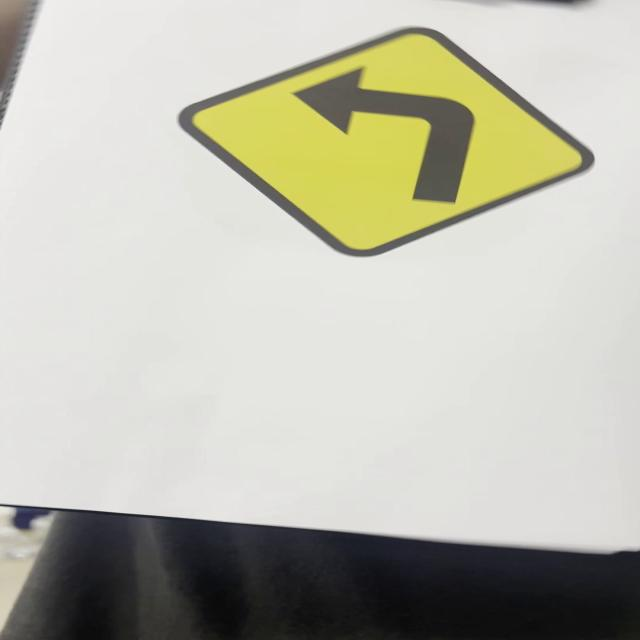left: (178, 26, 596, 259)
